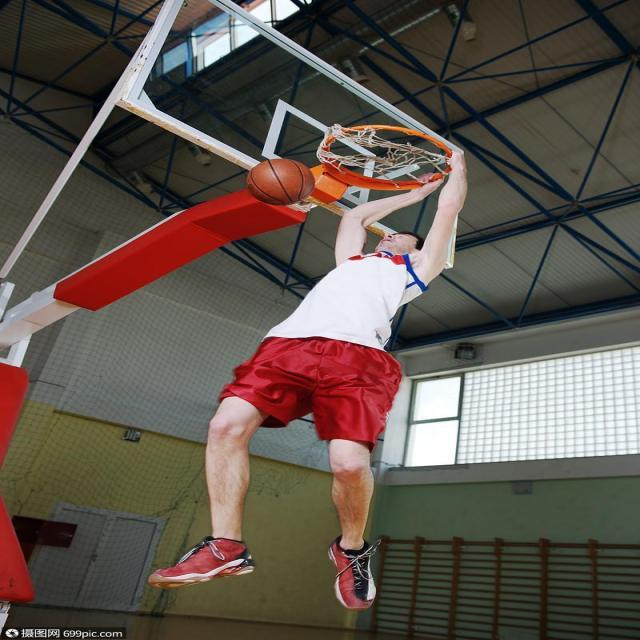rim: (248, 157, 315, 206)
